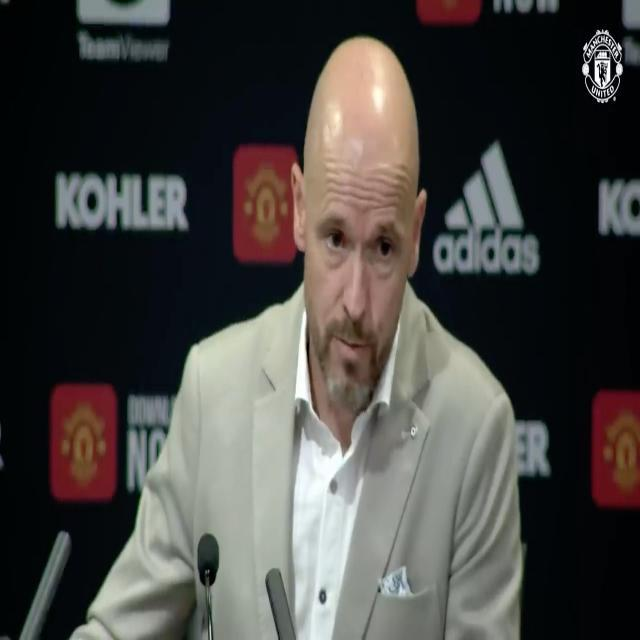Adidas: (433, 139, 542, 276)
Kohler: (56, 173, 188, 233)
TeamViewer: (78, 0, 169, 62)
